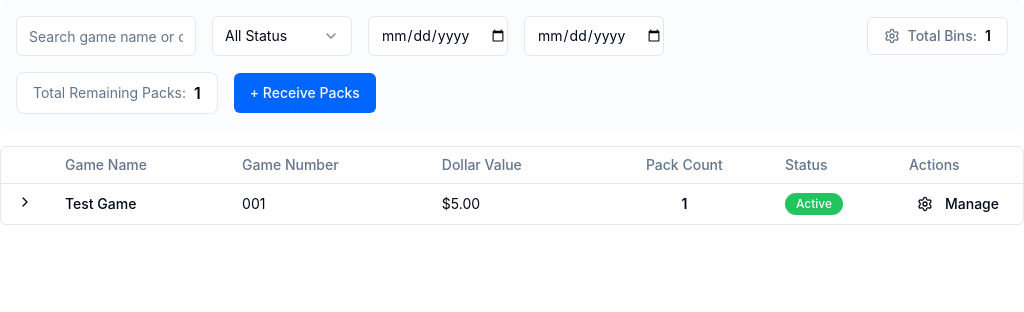
LotteryTable: Return Button Feature (SEC-010: AUTHZ) › RETURN-BTN-001: [P0] should enable Return button when backend can_return=true
This screenshot has width=1024, height=312.
Note: Expand the game row to see pack details
Click the row with test id "lottery-table-row-game-1" at (101,203), box [1,183,1023,224]
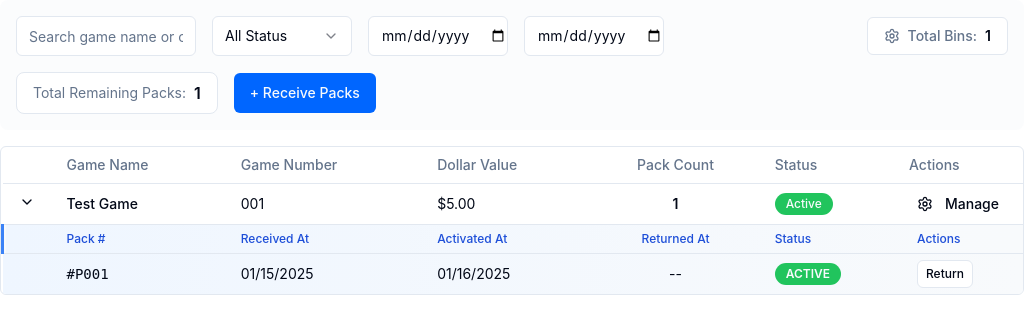
Now the button with test id "return-pack-btn-pack-active-returnable" is enabled, box [917,260,973,288]
Now the button with test id "return-pack-btn-pack-active-returnable" reads "Return", box [917,260,973,288]
